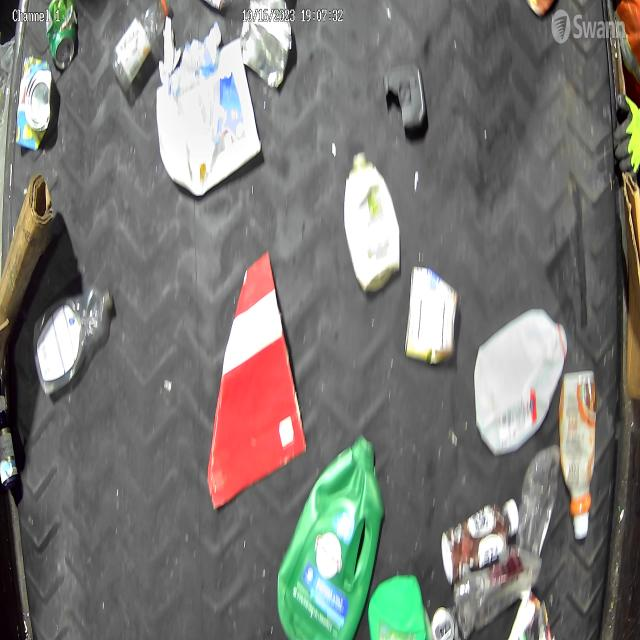can: (404, 263, 461, 366), (240, 0, 293, 89), (14, 54, 55, 152), (45, 0, 79, 73), (429, 605, 455, 640)
milk_jug: (156, 36, 262, 198), (473, 304, 568, 456)
non_white_jug: (275, 430, 386, 640)
plastic_bottle: (31, 283, 115, 398), (515, 442, 563, 594), (111, 0, 171, 90)
